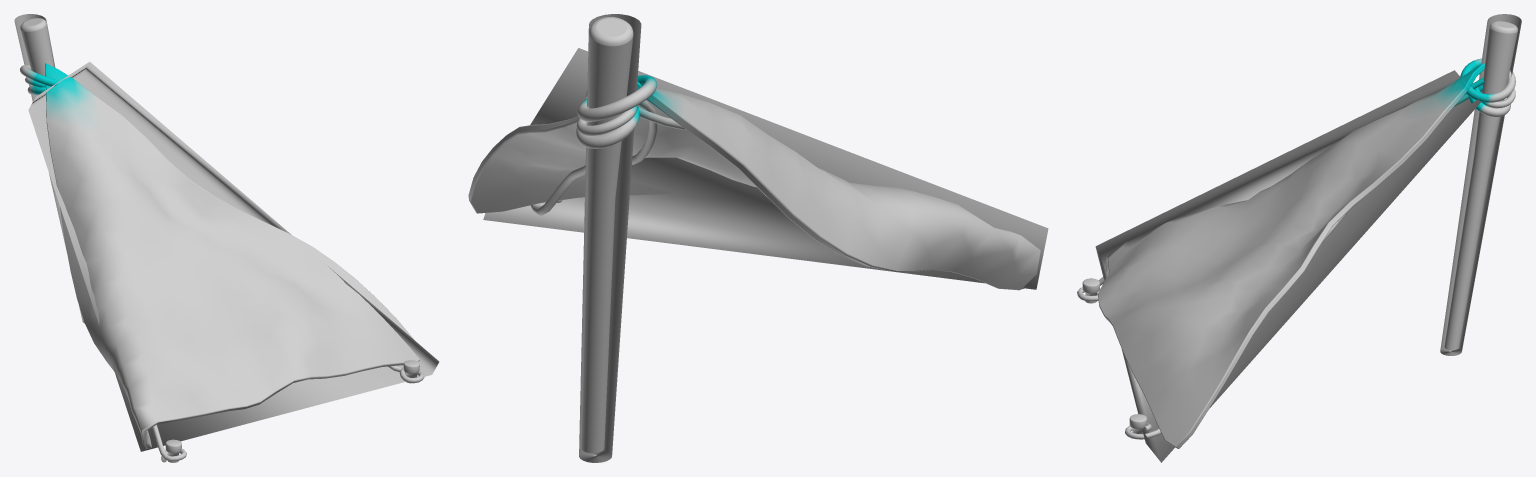
The model's file is SM_Cloth_03.gltf.
3 views of the same model, side by side, from view 1: azimuth 30°, elevation 25°; view 2: azimuth 150°, elevation 25°; view 3: azimuth 270°, elevation 25° (orthographic). The views are drawn at different scales.
Visible parts, largest first — view 1: SM_Cloth_03_LOD0, SM_Cloth_03_ConvexHulls; view 2: SM_Cloth_03_LOD0, SM_Cloth_03_ConvexHulls; view 3: SM_Cloth_03_LOD0, SM_Cloth_03_ConvexHulls.
Boxes of the visible parts, x1,y1,x2,y2 form: SM_Cloth_03_LOD0: (20,18,424,462); SM_Cloth_03_ConvexHulls: (14,14,439,451); SM_Cloth_03_LOD0: (468,17,1040,453); SM_Cloth_03_ConvexHulls: (483,14,1048,462); SM_Cloth_03_LOD0: (1077,21,1517,448); SM_Cloth_03_ConvexHulls: (1095,14,1521,462).
Size of what is drawn, in the model's own units: 4.1 by 3.66 by 4.68.
